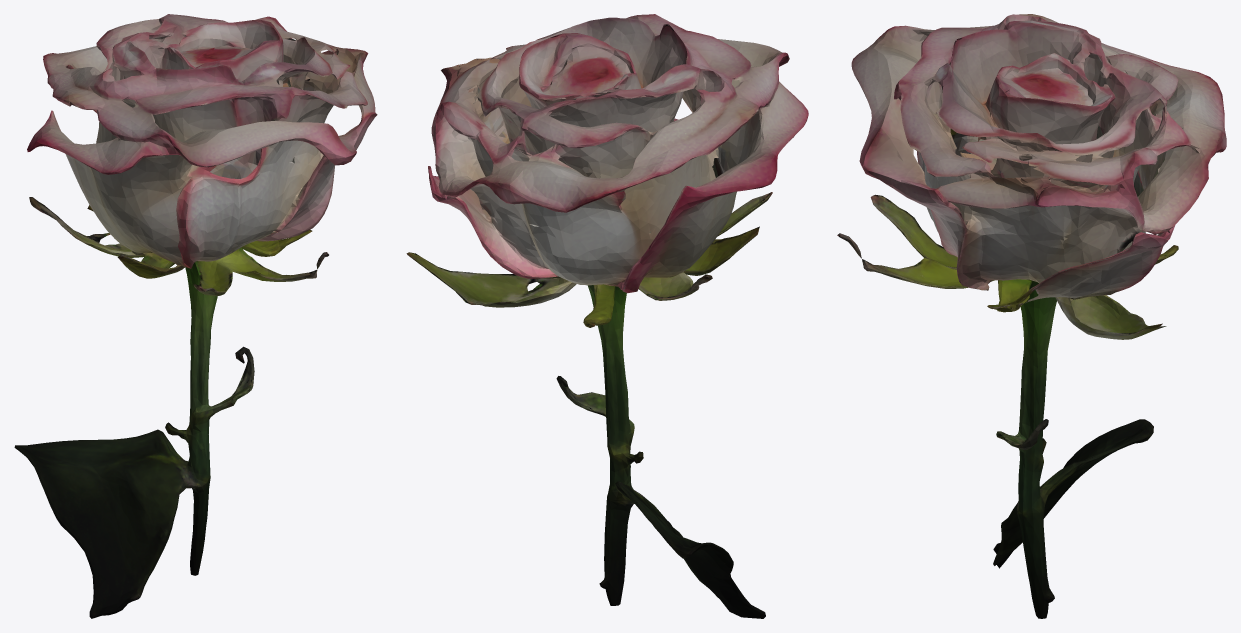
3 renders of one model, left to right at view 1: azimuth 30°, elevation 25°; view 2: azimuth 150°, elevation 25°; view 3: azimuth 270°, elevation 25°, orthographic. The views are drawn at different scales.
Parts seen in each view (by area): view 1: world; view 2: world; view 3: world.
Part boxes in pixels (left/top/right/bottom): world: left=14, top=14, right=377, bottom=618; world: left=406, top=14, right=808, bottom=618; world: left=837, top=14, right=1226, bottom=618.
Bounding box in the file's own units: 0.6386 × 0.9913 × 0.6117.
Materials: 1 (1 with a texture image).
